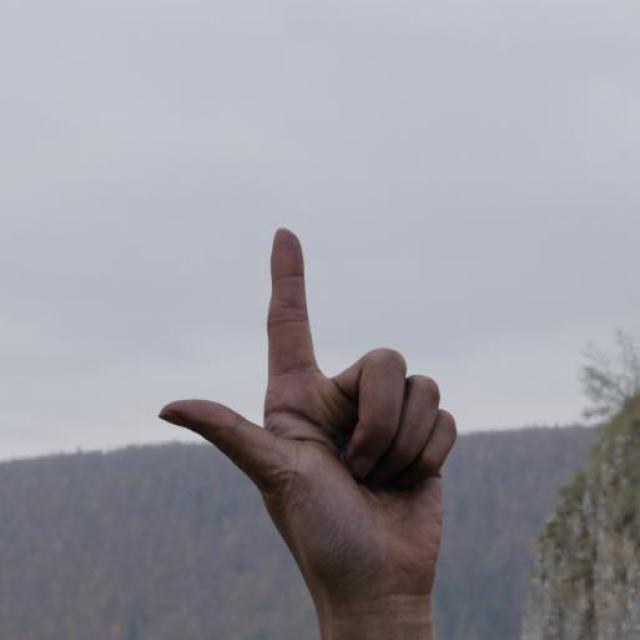L: (154, 223, 462, 581)
